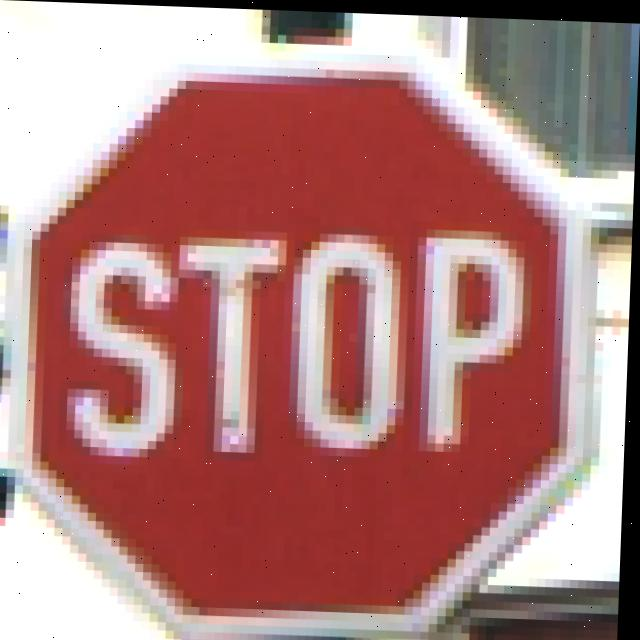stop: (9, 68, 589, 627)
